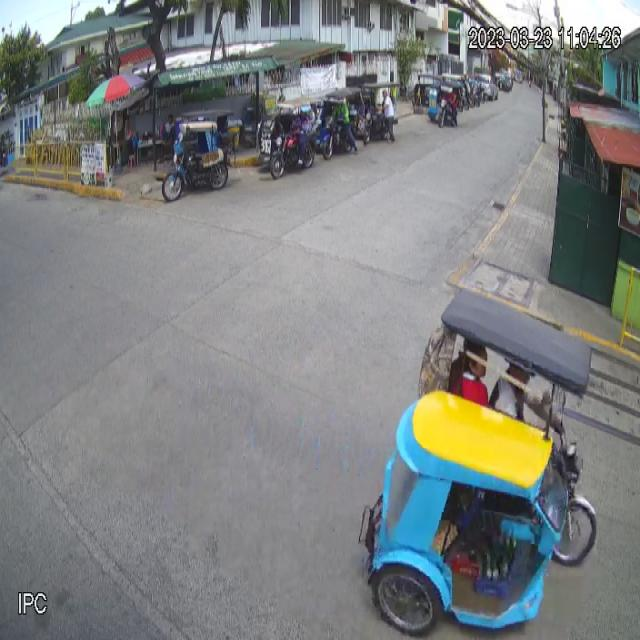Tricycle: (359, 287, 599, 634), (161, 110, 234, 203)
